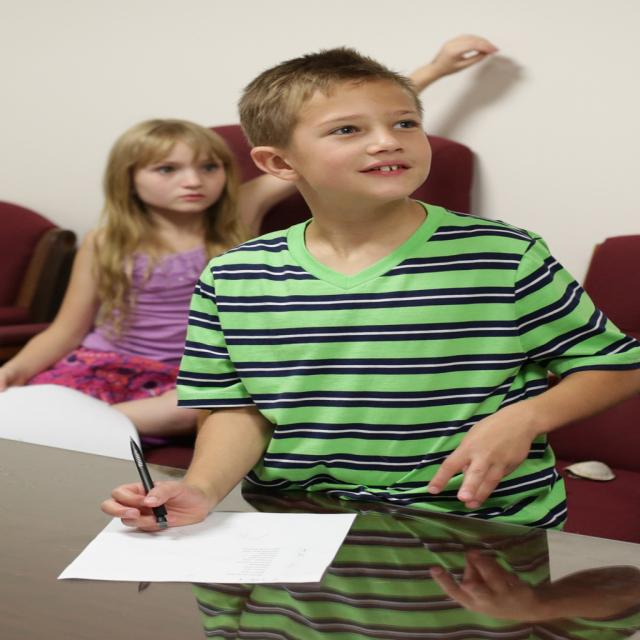pen: (127, 434, 168, 527)
